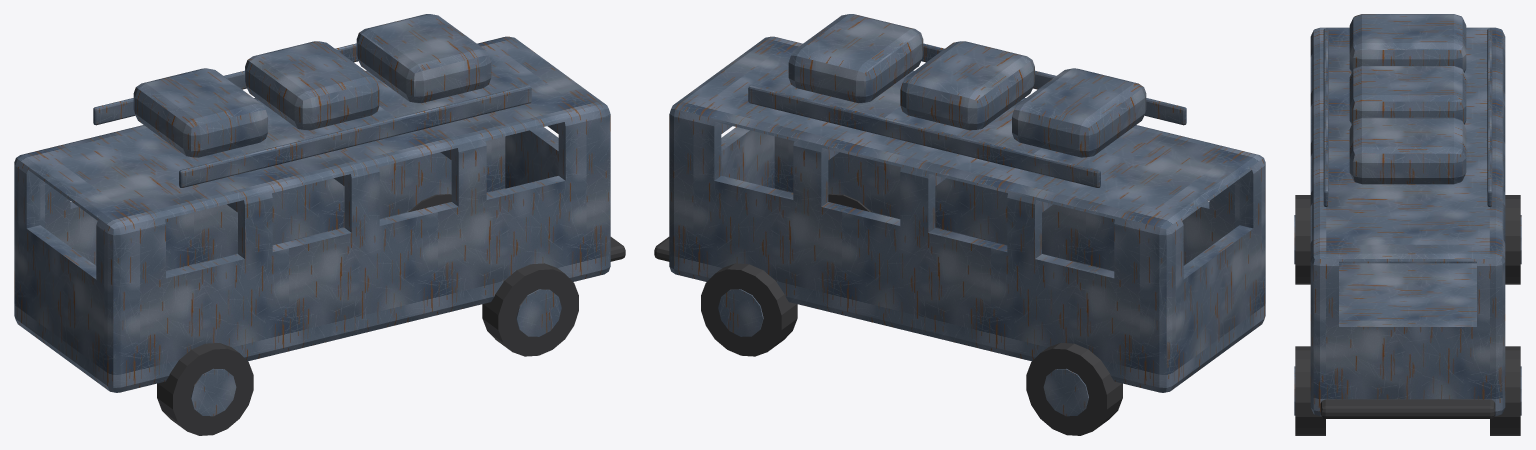
The model's file is minibus.glb.
3 views of the same model, side by side, from view 1: azimuth 30°, elevation 25°; view 2: azimuth 150°, elevation 25°; view 3: azimuth 270°, elevation 25° (orthographic). The views are drawn at different scales.
Visible parts, largest first — view 1: minibus; view 2: minibus; view 3: minibus.
Part boxes in pixels (x1,y1,x2,y2): minibus: (14,14,625,435); minibus: (654,14,1265,435); minibus: (1294,14,1521,435).
Bounding box in the file's own units: 5.6 × 2.95 × 2.22.
Materials: 2 (1 with a texture image).
